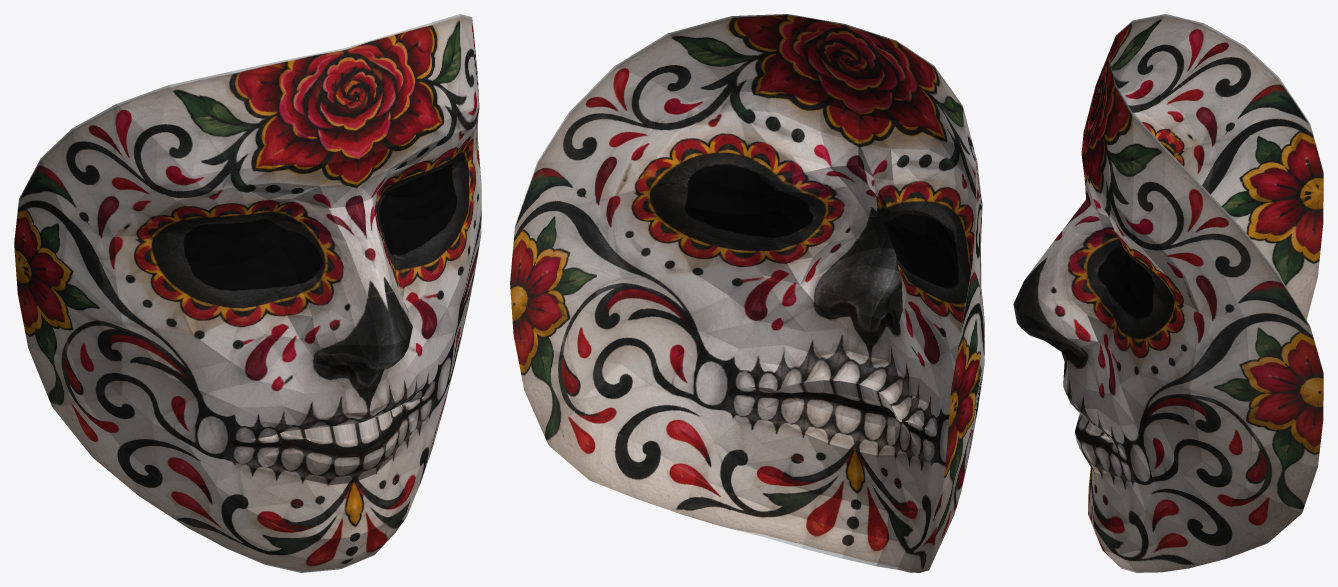
Rendered from sugar skull.glb.
The picture shows the model from 3 angles, left to right: view 1: azimuth 30°, elevation 25°; view 2: azimuth 150°, elevation 25°; view 3: azimuth 270°, elevation 25°; orthographic projection. The views are drawn at different scales.
Bounding box in the file's own units: 15.49 × 17.67 × 10.02.
1 material, 1 textured.
